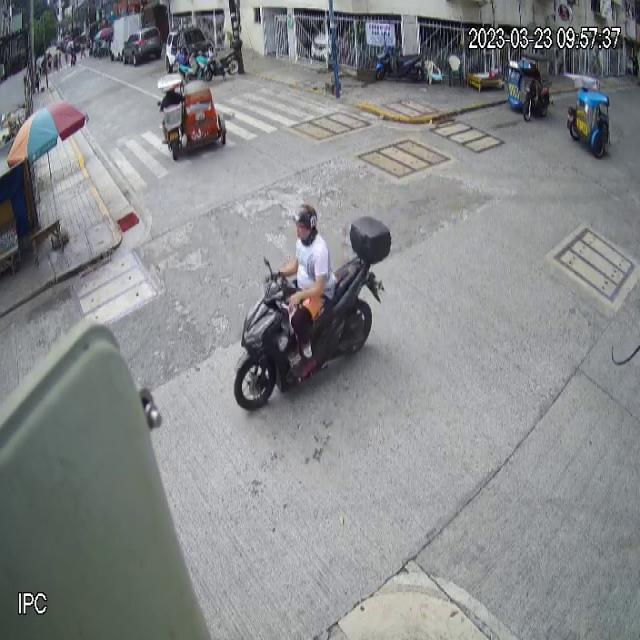Motorcycle: (233, 216, 392, 413)
Tricycle: (156, 73, 227, 161), (564, 70, 612, 159), (507, 53, 555, 124)
